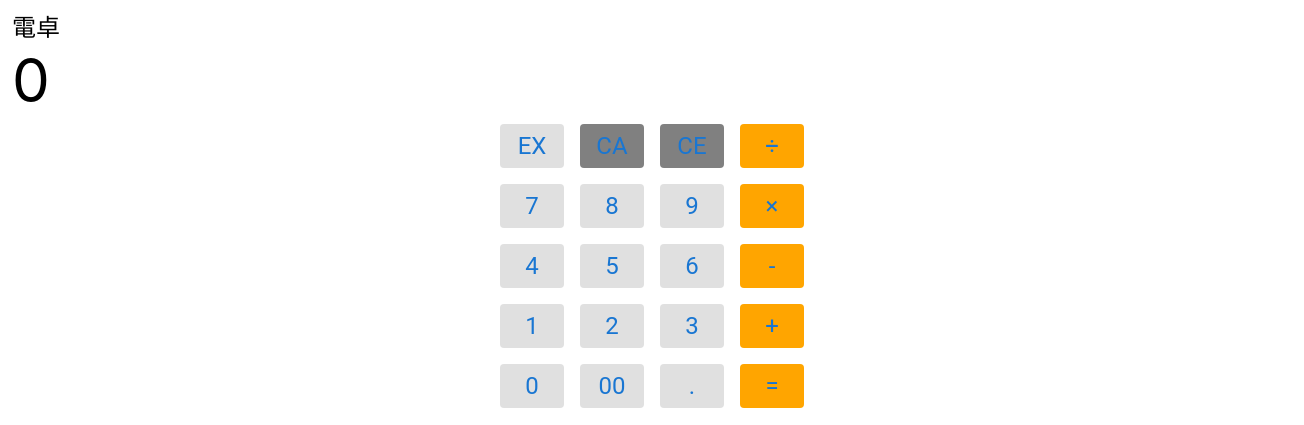
Test case: handleNumberClick event › 割り算　1÷2=0.5"
Click the button "1" at (532, 326), box left=500, top=304, right=564, bottom=348
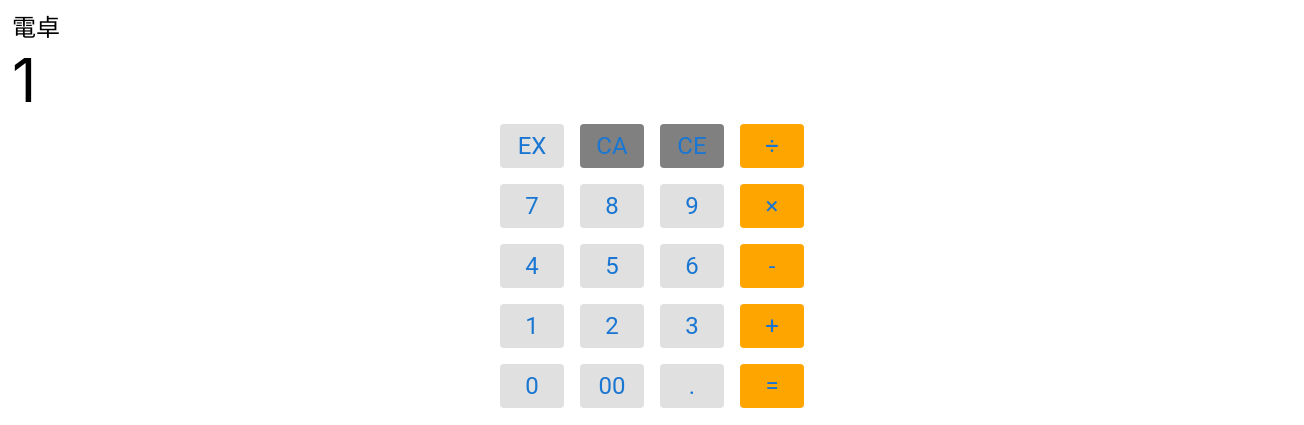
Click the button "÷" at (772, 146), box left=740, top=124, right=804, bottom=168
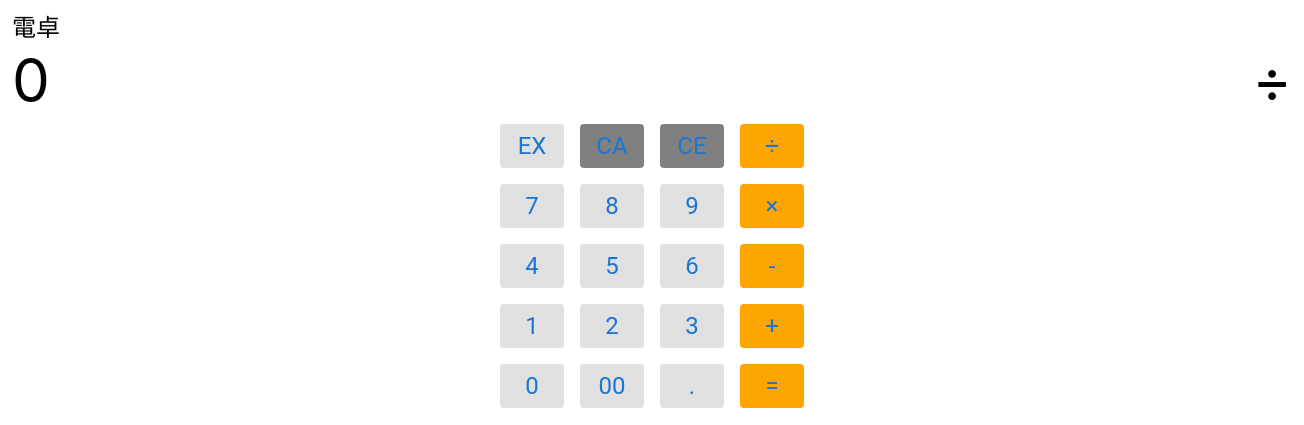
Click the button "2" at (612, 326), box left=580, top=304, right=644, bottom=348
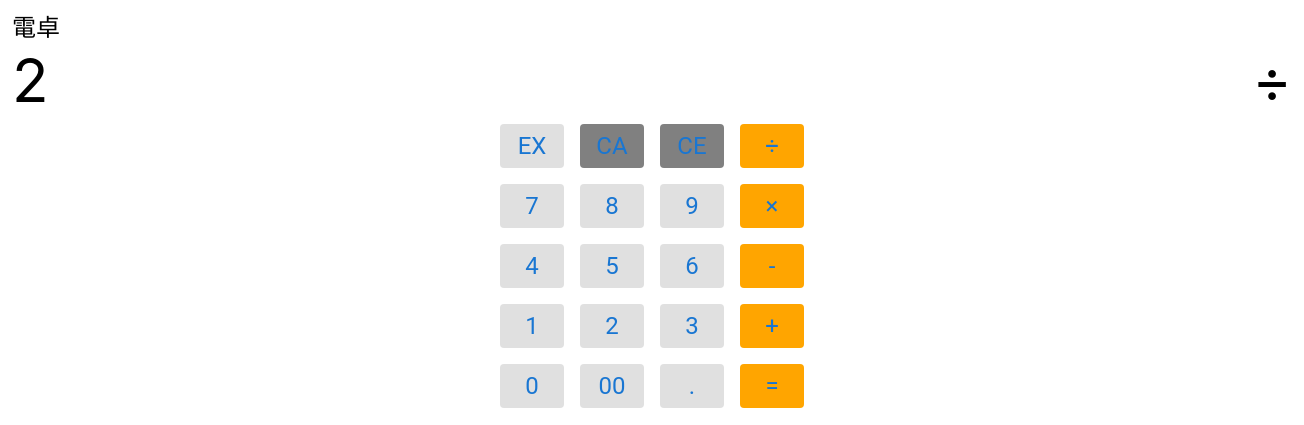
Click the button "=" at (772, 386), box left=740, top=364, right=804, bottom=408
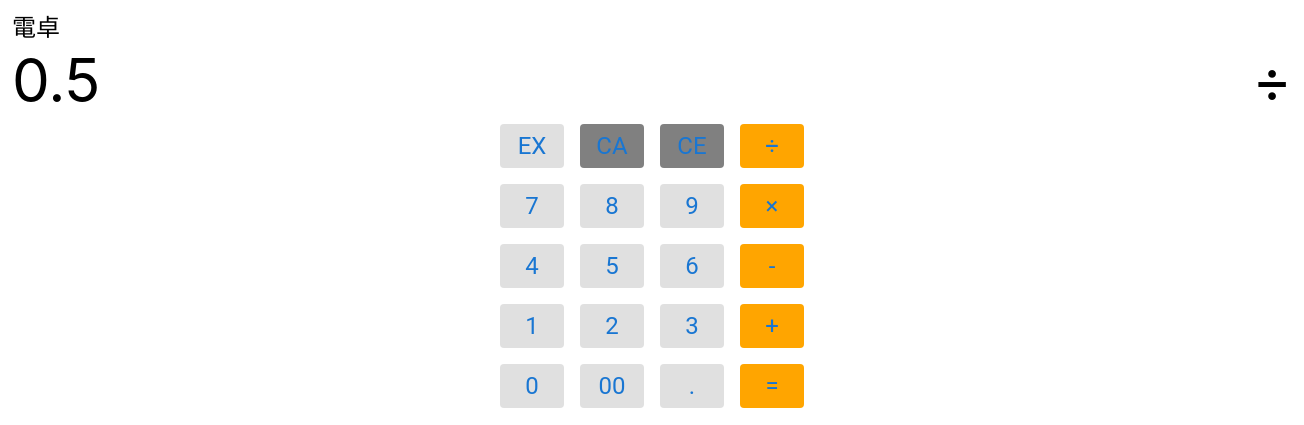
Expected: the text with test id "display" reads "0.5", left=12, top=44, right=100, bottom=116
